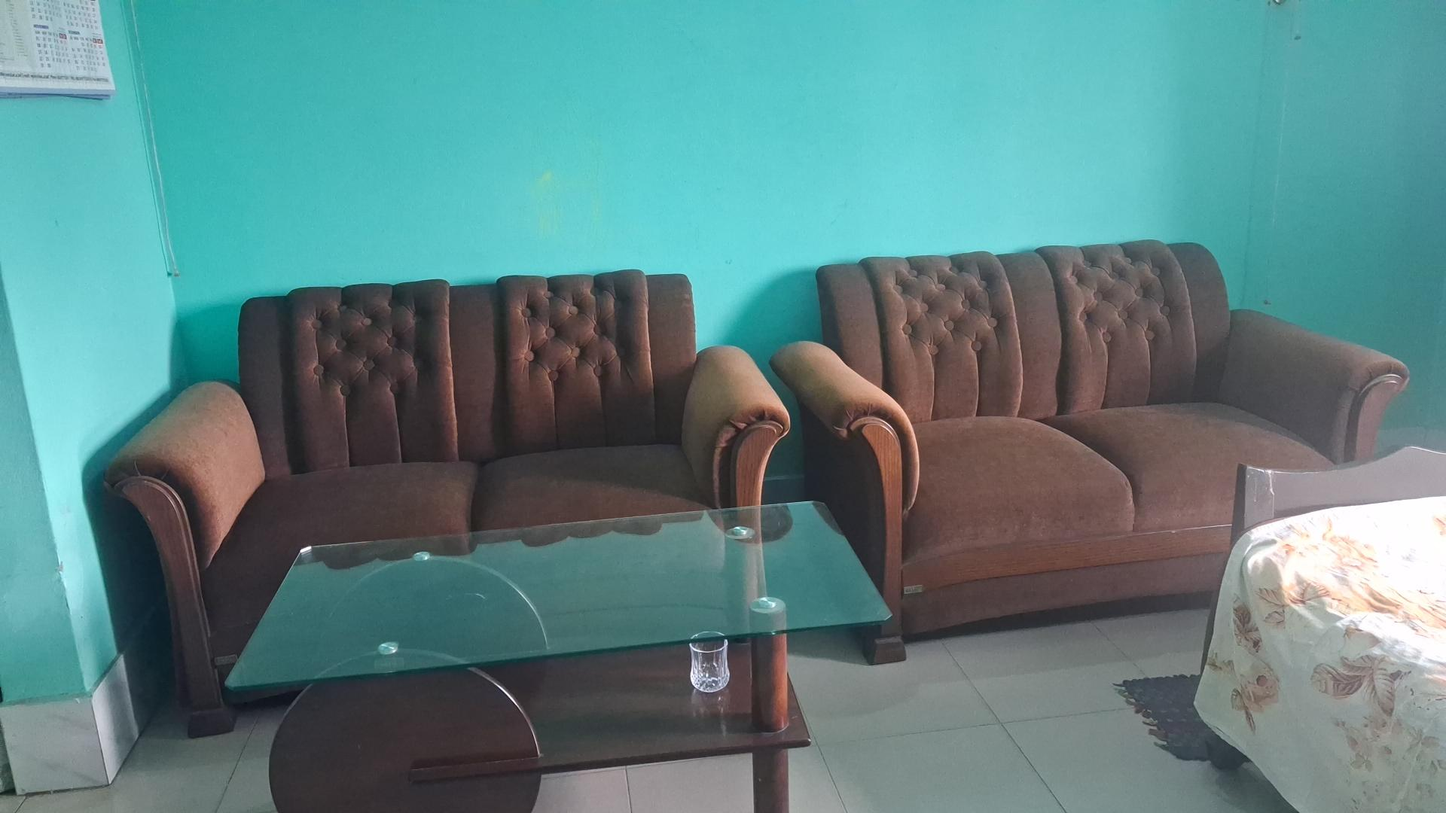Glass: (690, 633, 735, 698)
Table: (230, 496, 898, 813)
